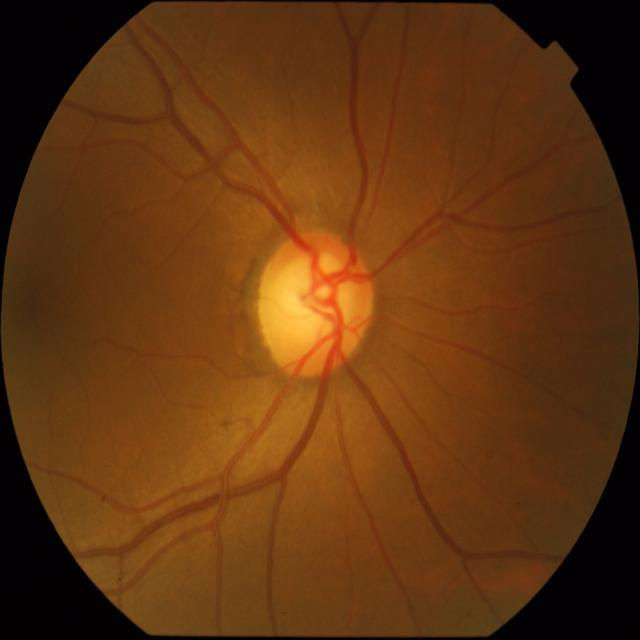OC: (269, 246, 364, 365)
OD: (256, 231, 376, 378)
